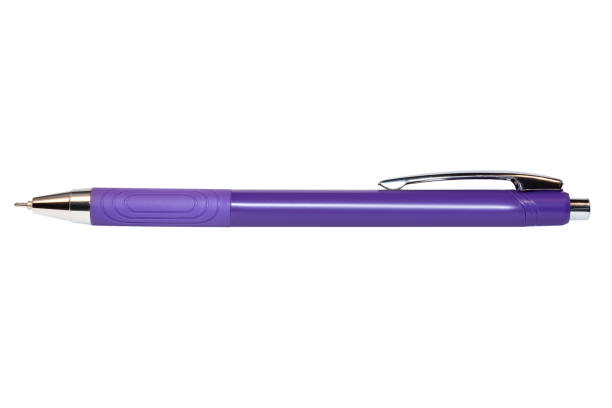pen: (10, 165, 602, 248)
